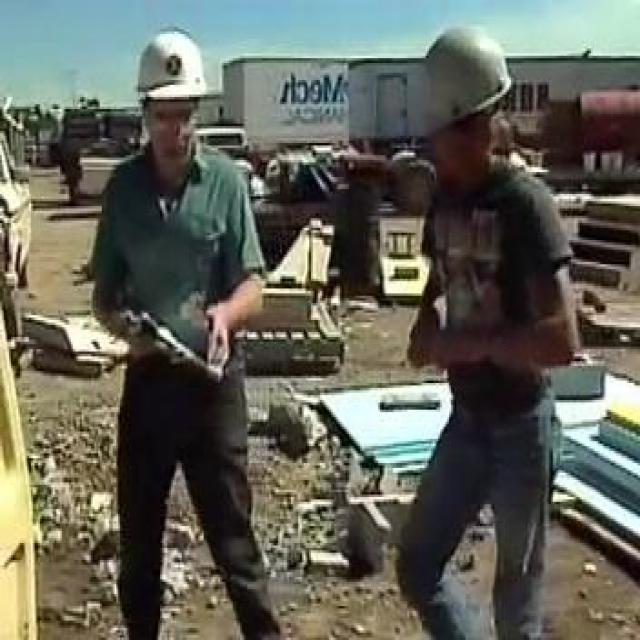Safety-Helmet: (398, 15, 526, 150), (124, 20, 222, 116)
